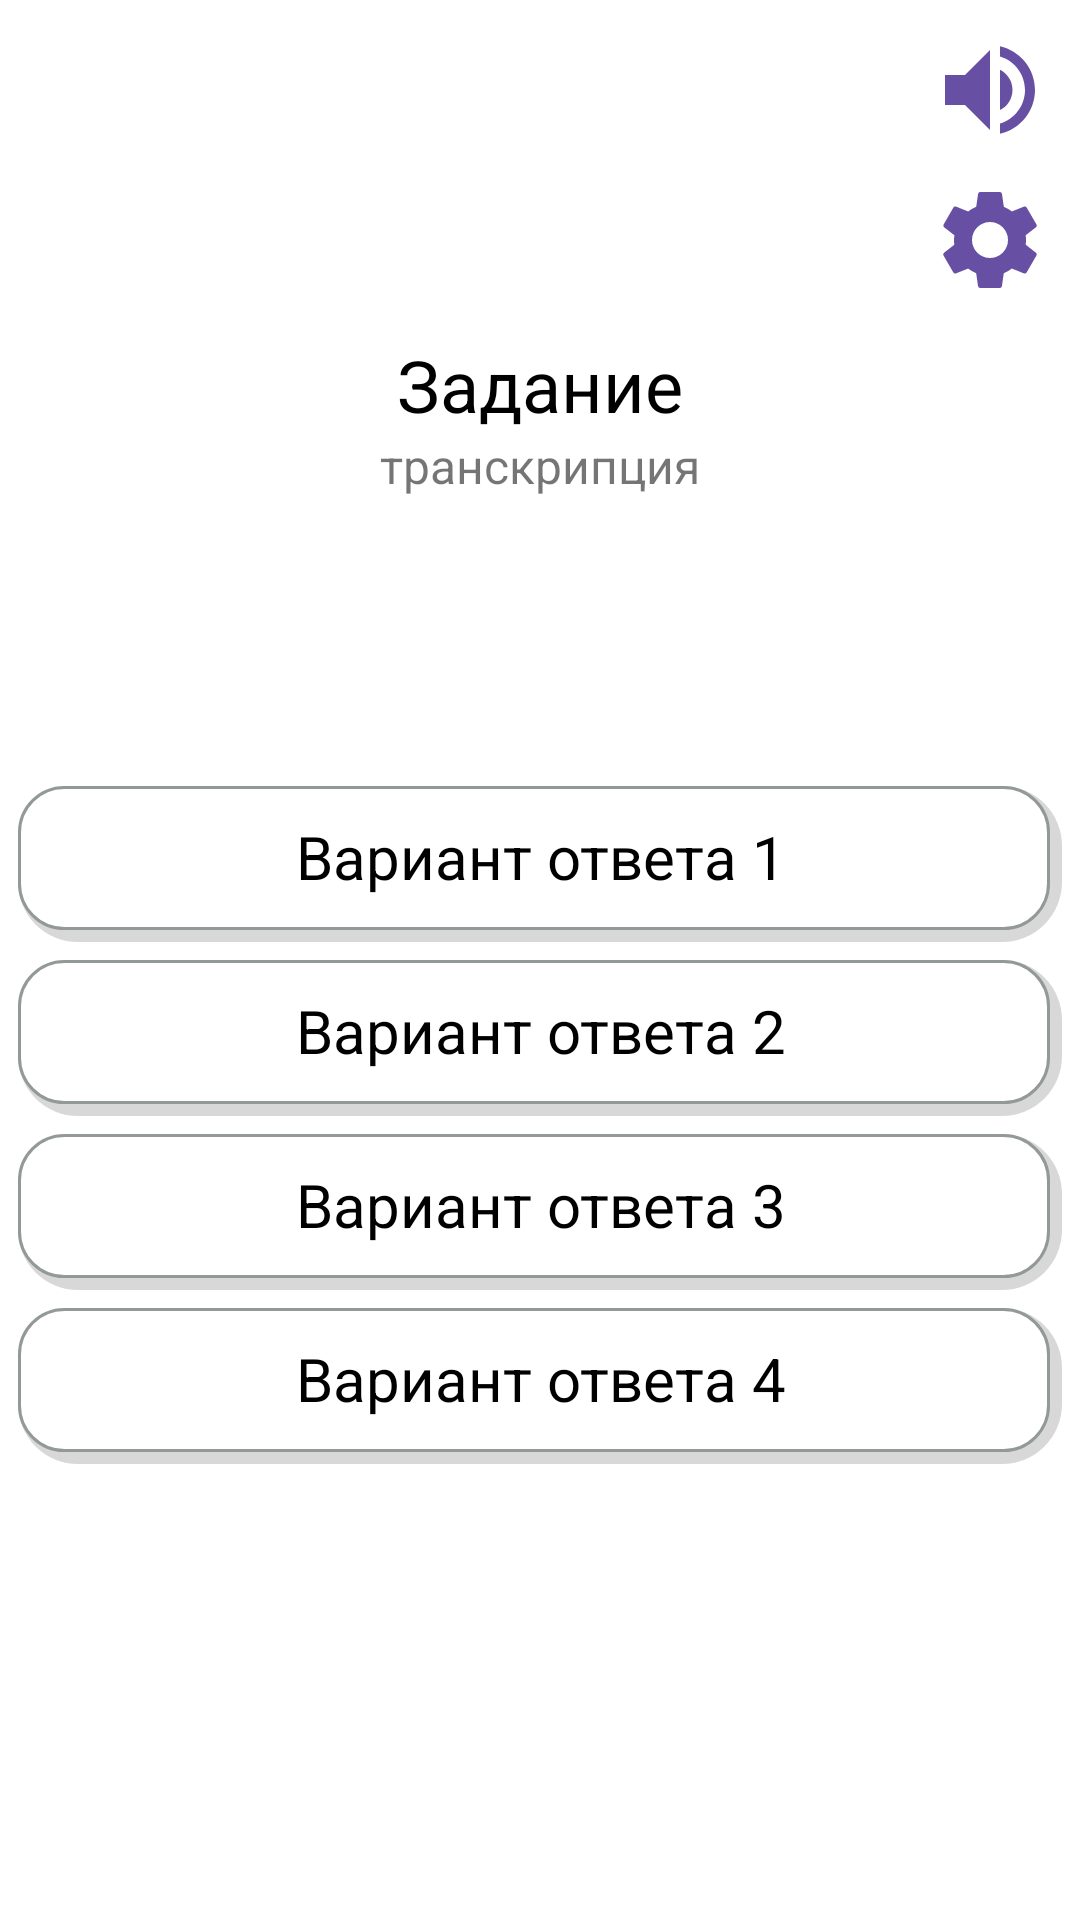

Point at icon controls on the screen. Image size 1080px×1920px, points as point (x, y).
settings: point (990, 240)
volume up: point (990, 90)
